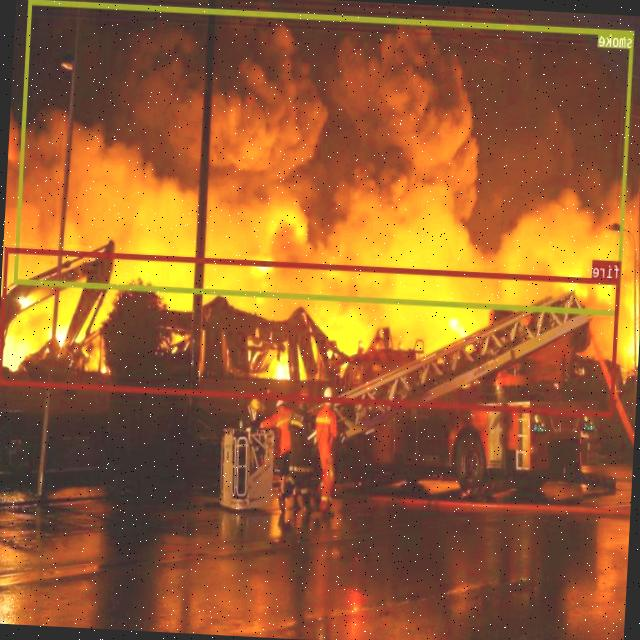fire: (0, 247, 621, 416)
smoke: (14, 0, 635, 315)
